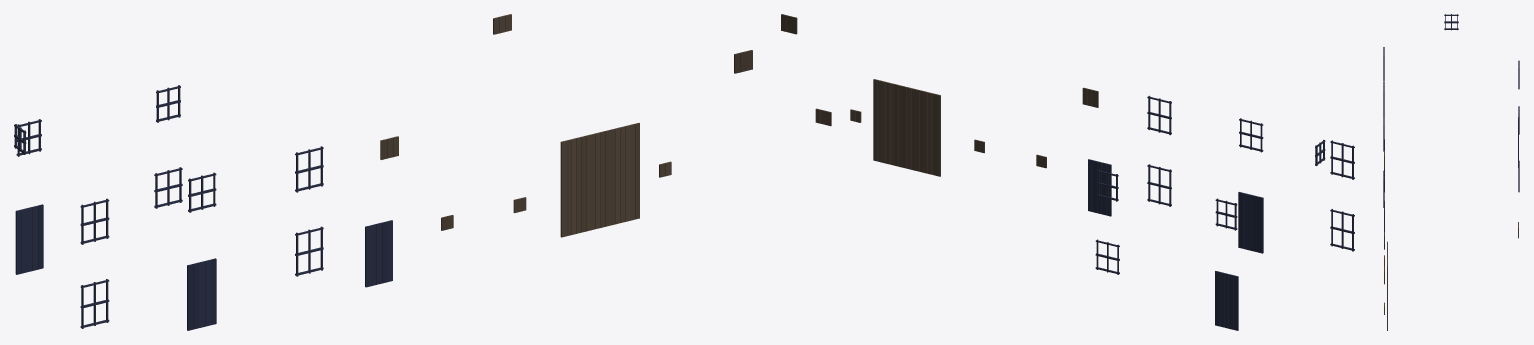
File: SM_Bld_228_Wood.glb
3 renders of one model, left to right at view 1: azimuth 30°, elevation 25°; view 2: azimuth 150°, elevation 25°; view 3: azimuth 270°, elevation 25°, orthographic. The views are drawn at different scales.
Visible parts, largest first — view 1: SM_Bld_228_Wood; view 2: SM_Bld_228_Wood; view 3: SM_Bld_228_Wood.
Part boxes in pixels (x1,y1,x2,y2): SM_Bld_228_Wood: [14, 14, 752, 330]; SM_Bld_228_Wood: [781, 14, 1354, 330]; SM_Bld_228_Wood: [1383, 14, 1519, 330].
Size of the model in its own units: 22.55 by 6.15 by 5.83.
